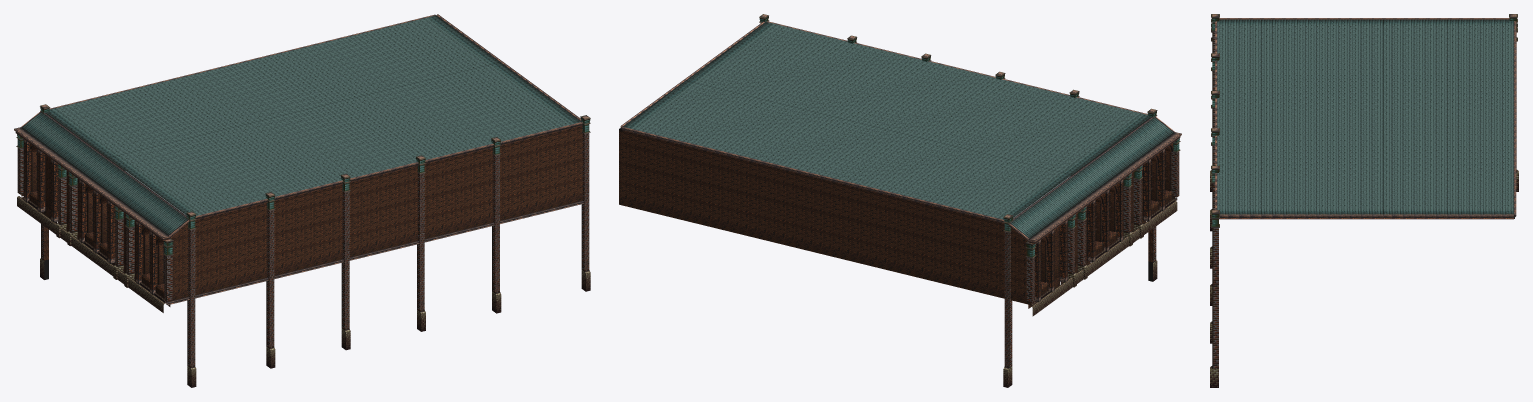
File: EnvBdgMD_Factory_A_Outdoor_RoofTop_D.FBX
The picture shows the model from 3 angles, left to right: view 1: azimuth 30°, elevation 25°; view 2: azimuth 150°, elevation 25°; view 3: azimuth 270°, elevation 25°; orthographic projection. The views are drawn at different scales.
Parts seen in each view (by area): view 1: EnvBdgMD_Factory_A_Outdoor_RoofTop_D; view 2: EnvBdgMD_Factory_A_Outdoor_RoofTop_D; view 3: EnvBdgMD_Factory_A_Outdoor_RoofTop_D.
Boxes of the visible parts, <box> form: EnvBdgMD_Factory_A_Outdoor_RoofTop_D: <box>14,14,590,387</box>; EnvBdgMD_Factory_A_Outdoor_RoofTop_D: <box>619,14,1181,387</box>; EnvBdgMD_Factory_A_Outdoor_RoofTop_D: <box>1210,14,1518,387</box>.
Size of the model in its own units: 4535 by 1748 by 2790.
